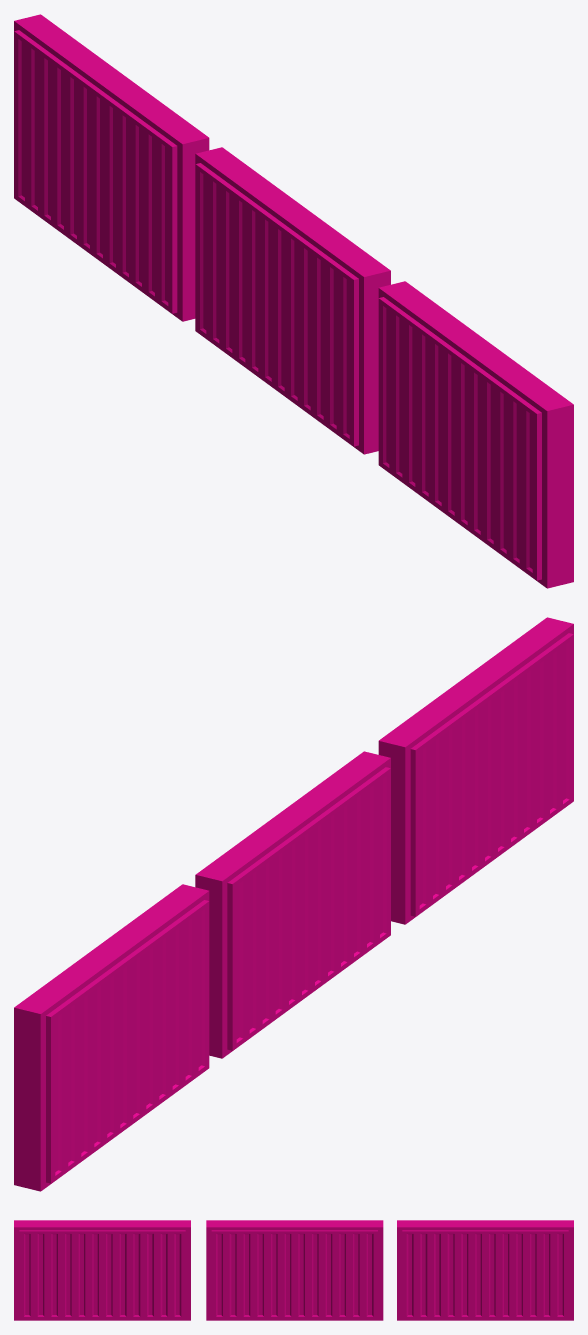
The model's file is radiators.fbx.
The picture shows the model from 3 angles, top to bottom: view 1: azimuth 30°, elevation 25°; view 2: azimuth 150°, elevation 25°; view 3: azimuth 270°, elevation 25°; orthographic projection. The views are drawn at different scales.
Parts seen in each view (by area): view 1: pCube166; view 2: pCube166; view 3: pCube166.
Boxes of the visible parts, x1,y1,x2,y2 form: pCube166: (14,14,573,588); pCube166: (14,617,573,1191); pCube166: (14,1220,573,1320).
Bounding box in the file's own units: 0.3667 × 1.69 × 9.18.
